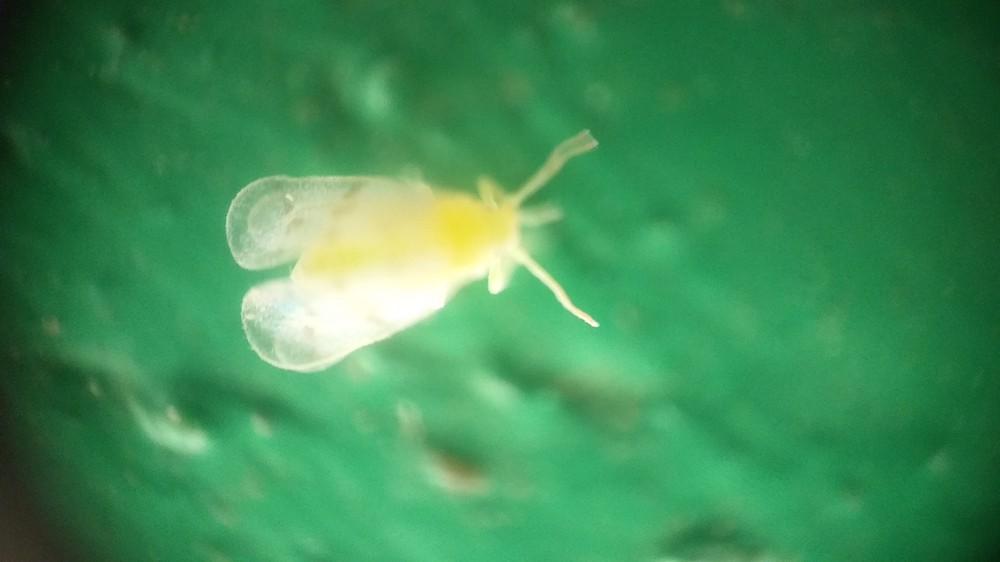Mosca Blanca: (215, 114, 630, 392)
